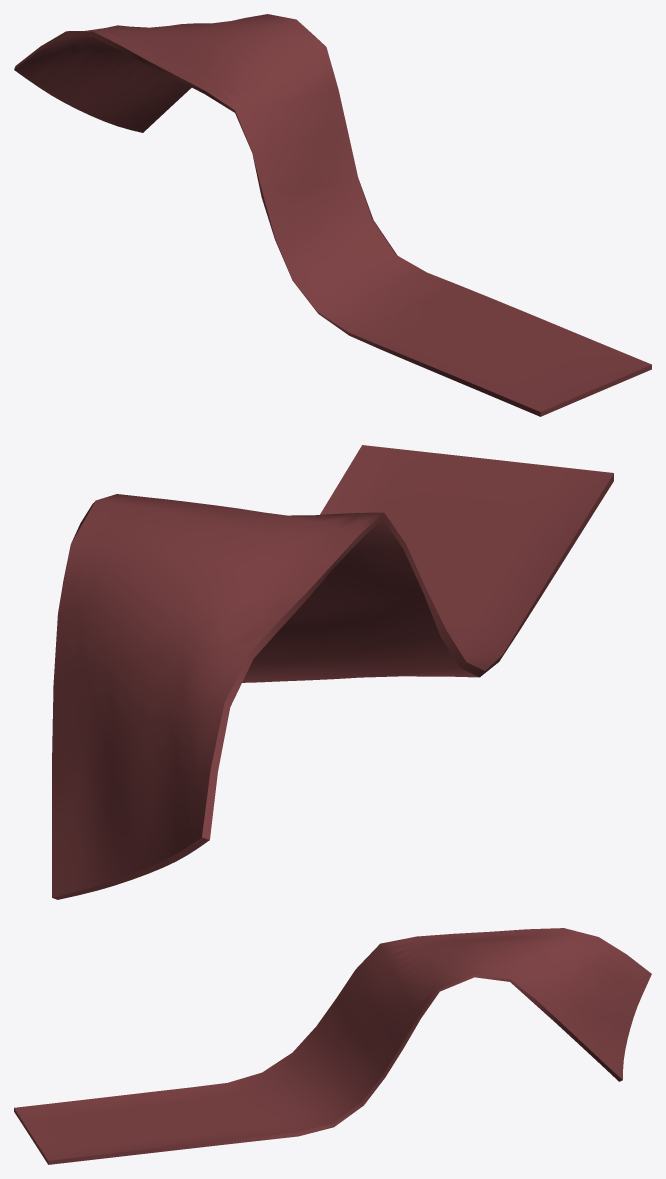
The model's file is cloth_chairv2.fbx.
The picture shows the model from 3 angles, top to bottom: view 1: azimuth 30°, elevation 25°; view 2: azimuth 150°, elevation 25°; view 3: azimuth 270°, elevation 25°; orthographic projection. The views are drawn at different scales.
Parts seen in each view (by area): view 1: cloth1; view 2: cloth1; view 3: cloth1.
Part boxes in pixels (x1,y1,x2,y2): cloth1: [14, 14, 651, 416]; cloth1: [52, 445, 613, 899]; cloth1: [14, 928, 651, 1164].
Bounding box in the file's own units: 17.78 × 11.5 × 43.79.
